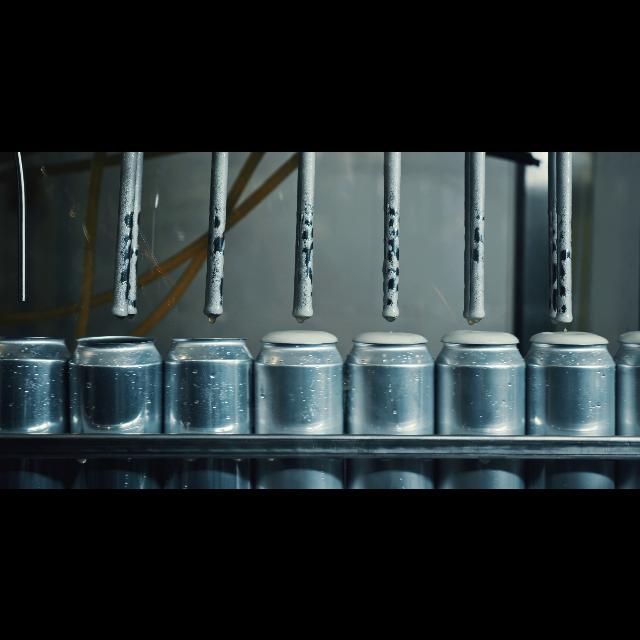empty: (166, 329, 250, 488), (79, 328, 161, 488), (0, 329, 74, 488)
full: (254, 318, 342, 488), (528, 320, 616, 488), (350, 322, 432, 488), (441, 324, 524, 488)
